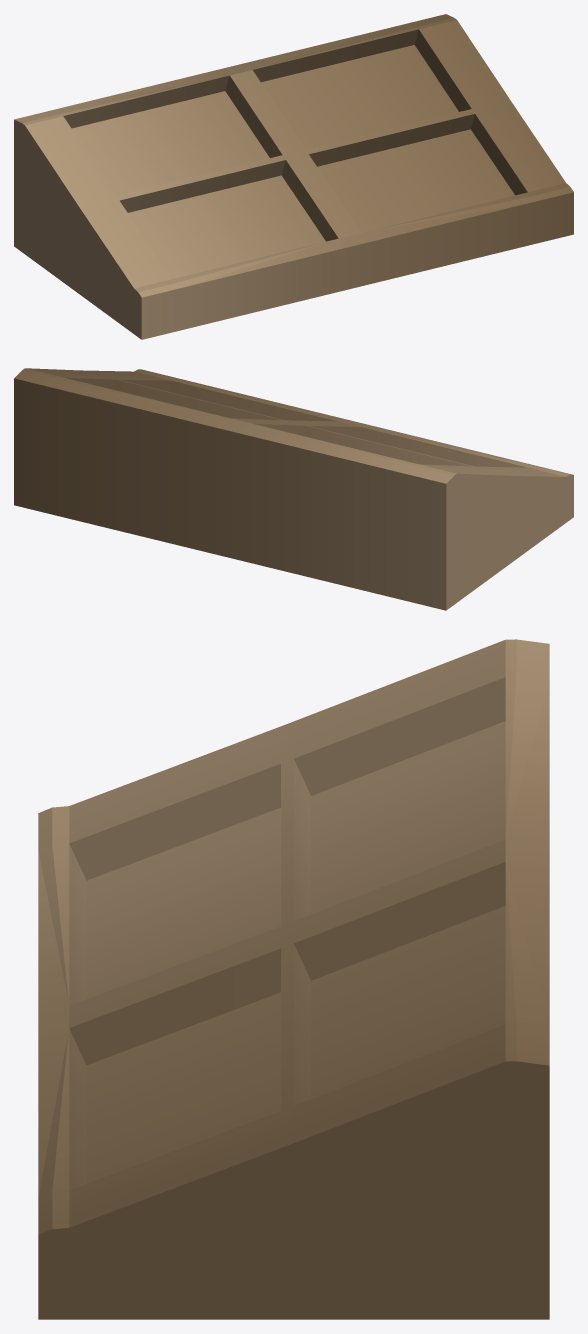
File: MarketStall_Tray_4.gltf
The picture shows the model from 3 angles, top to bottom: view 1: azimuth 30°, elevation 25°; view 2: azimuth 150°, elevation 25°; view 3: azimuth 270°, elevation 25°; orthographic projection. The views are drawn at different scales.
Parts seen in each view (by area): view 1: MarketStall_Tray_4; view 2: MarketStall_Tray_4; view 3: MarketStall_Tray_4.
Boxes of the visible parts, x1,y1,x2,y2 form: MarketStall_Tray_4: (14,14,573,339); MarketStall_Tray_4: (14,368,573,610); MarketStall_Tray_4: (38,639,549,1319).
Bounding box in the file's own units: 2.1 × 0.5996 × 1.08.
1 material, 1 textured.
